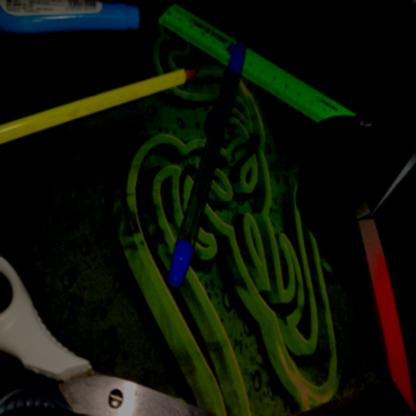pen: (157, 33, 274, 297)
